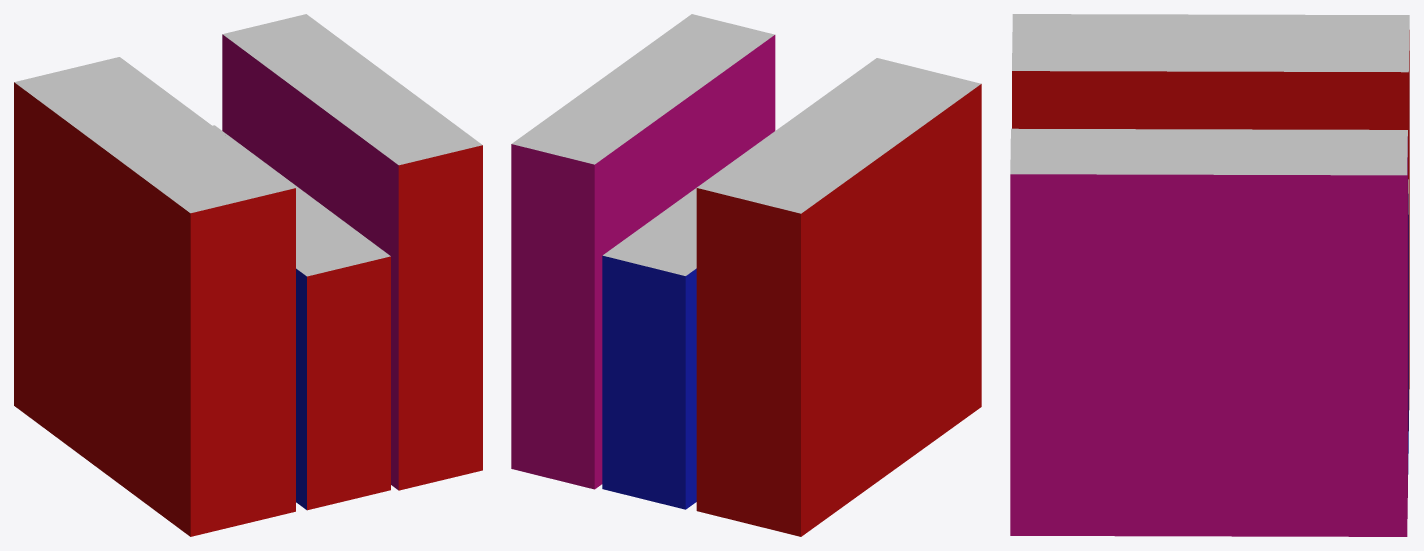
The model's file is Books2.obj.
3 renders of one model, left to right at view 1: azimuth 30°, elevation 25°; view 2: azimuth 150°, elevation 25°; view 3: azimuth 270°, elevation 25°, orthographic. The views are drawn at different scales.
Parts seen in each view (by area): view 1: Livros1; view 2: Livros1; view 3: Livros1.
Boxes of the visible parts, x1,y1,x2,y2 form: Livros1: (14,14,482,536); Livros1: (511,14,981,536); Livros1: (1010,14,1409,536).
Size of the model in its own units: 1.46 by 1.55 by 1.54.
